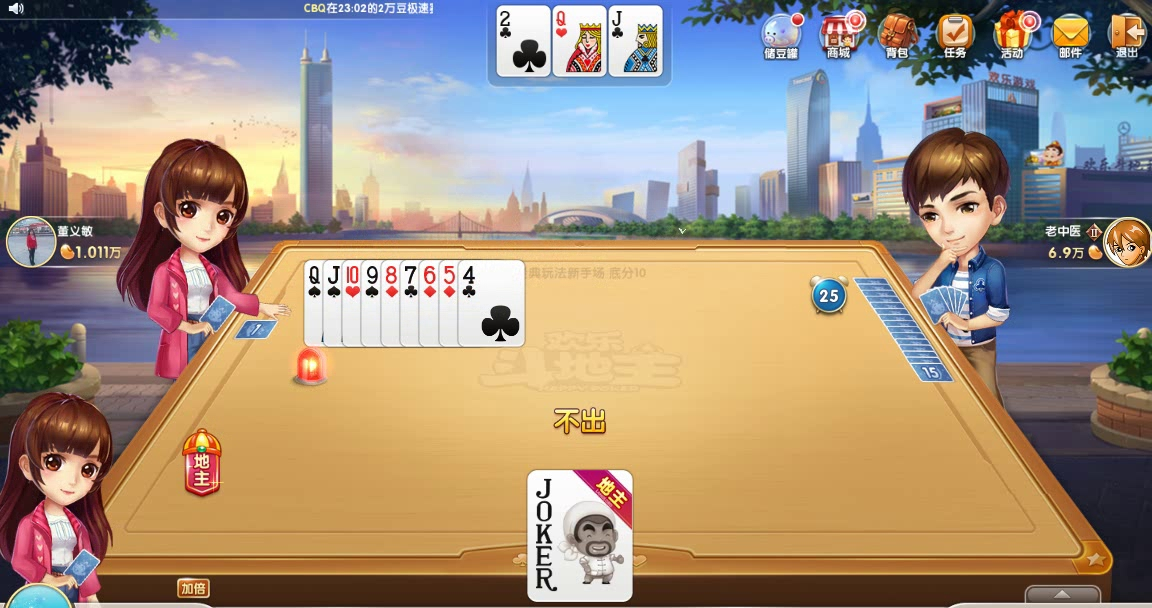10~3: (342, 259, 412, 347)
11~2: (607, 4, 662, 77)
11~4: (322, 259, 392, 347)
12~3: (551, 4, 606, 77)
12~4: (304, 259, 374, 347)
15~2: (495, 4, 550, 77)
17~3: (526, 470, 632, 601)
4~2: (457, 259, 527, 347)
5~1: (437, 259, 507, 347)
6~1: (418, 259, 488, 347)
7~2: (399, 259, 469, 347)
8~1: (380, 259, 450, 347)
9~4: (361, 259, 431, 347)
